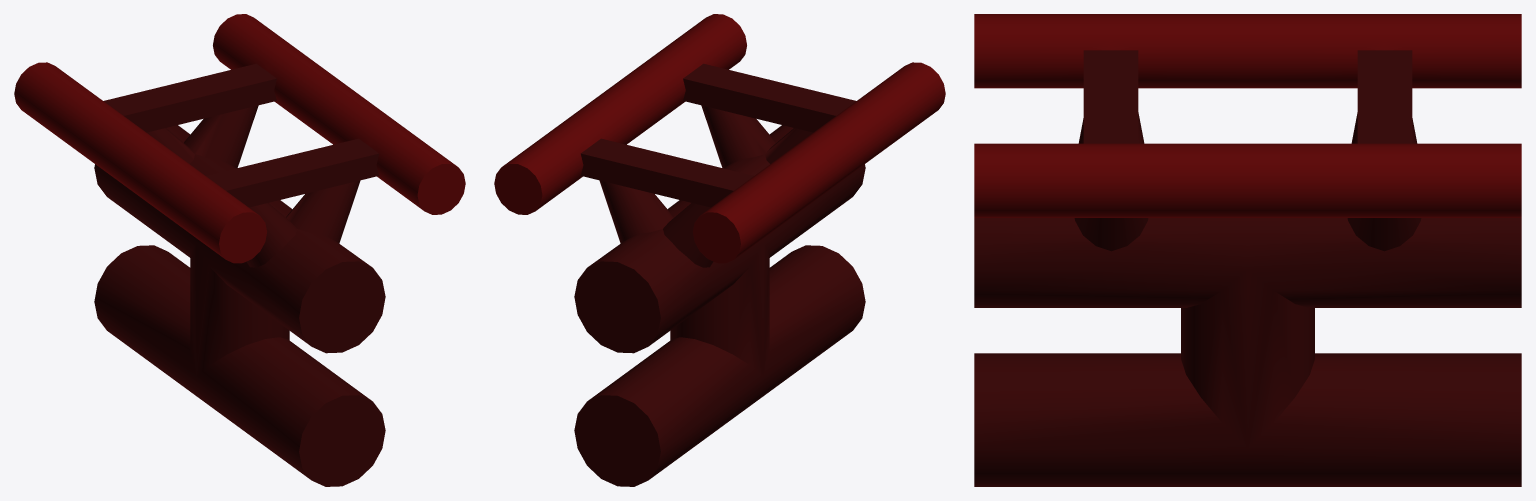
File: intamindouble.obj
The picture shows the model from 3 angles, left to right: view 1: azimuth 30°, elevation 25°; view 2: azimuth 150°, elevation 25°; view 3: azimuth 270°, elevation 25°; orthographic projection. The views are drawn at different scales.
Size of the model in its own units: 1.15 by 1.33 by 1.65.
